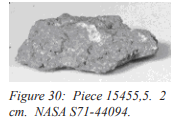Breccia: (15, 3, 163, 77)
